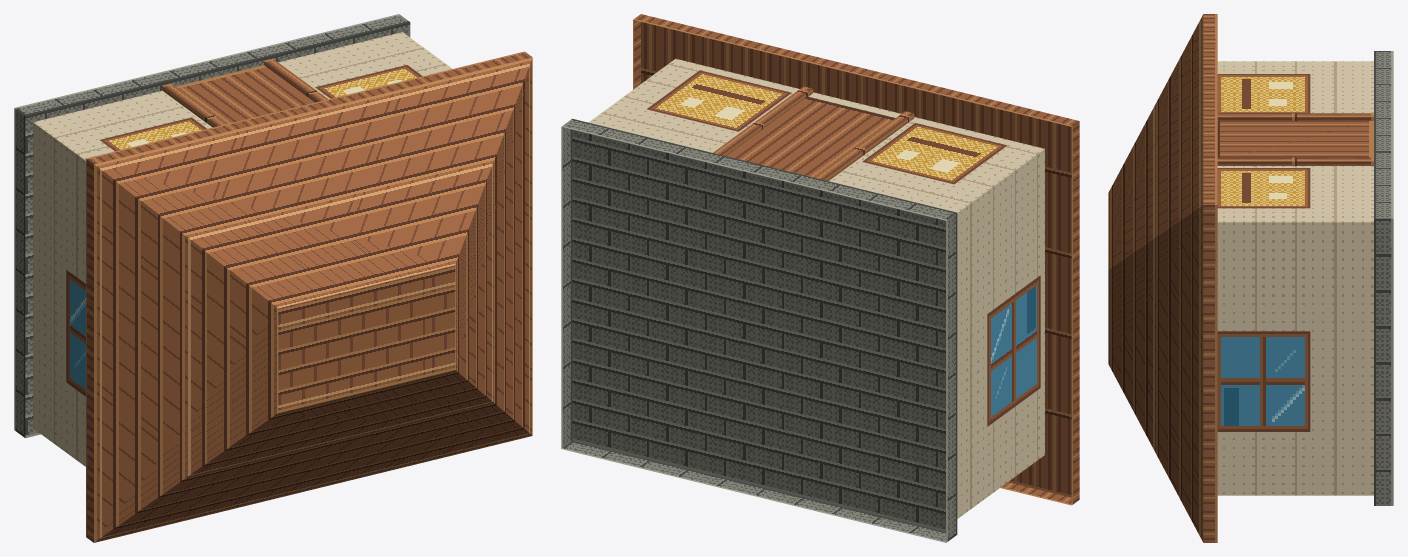
Rendered from house_a.obj.
3 views of the same model, side by side, from view 1: azimuth 30°, elevation 25°; view 2: azimuth 150°, elevation 25°; view 3: azimuth 270°, elevation 25° (orthographic). The views are drawn at different scales.
Visible parts, largest first — view 1: house_a; view 2: house_a; view 3: house_a.
Part boxes in pixels (x1,y1,x2,y2): house_a: (14,14,532,542); house_a: (561,14,1079,542); house_a: (1108,14,1393,542).
Size of the model in its own units: 5.7 by 4.7 by 3.6.
6 materials, 6 textured.
